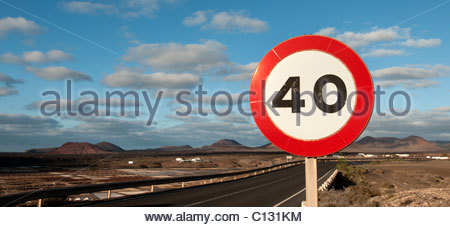Speed_limit_40km: (248, 34, 376, 154)
